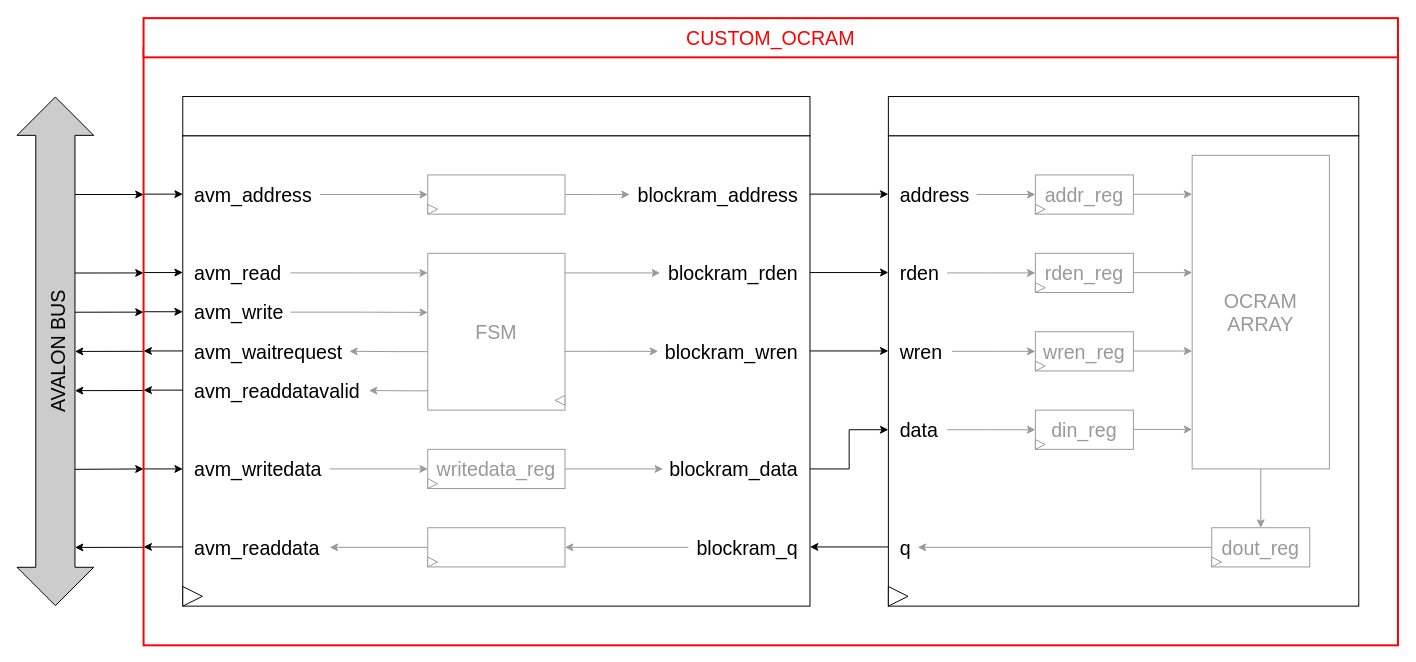
Image size: 1416x662. Some labels were removed from this diagram. The centre of each missing label's shape, as x and y in pixels:
"1PORT_BLOCKRAM" goes at point (1123, 116).
"address_reg" goes at point (496, 194).
"AVM_TO_BLOCKRAM_CONVERTER" goes at point (496, 116).
"readdata_reg" goes at point (496, 547).
